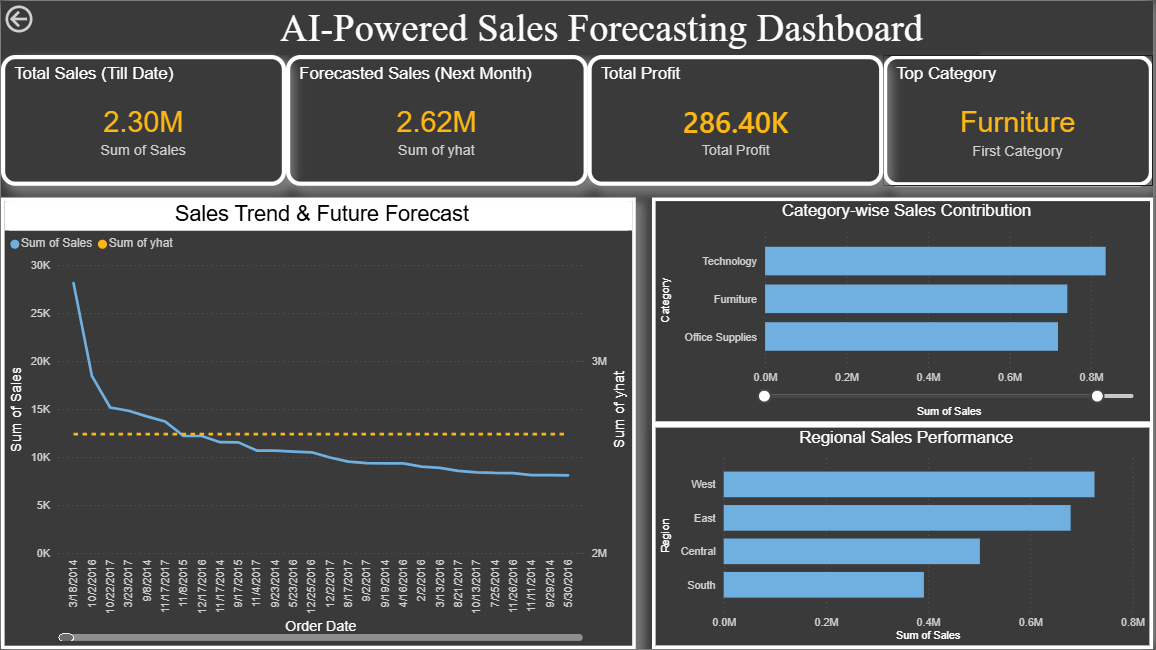

The dashboard page shown, as its layout file describes it:
{"tool":"powerbi","page":{"name":"Page 1","canvas":[1280,720],"ordinal":0},"visuals":[{"type":"lineChart","title":"Sales Trend & Future Forecast","fields":{"Category":["superstore.Order Date"],"Y":["Sum(superstore.Sales)"],"Y2":["Sum(sales_forecast.yhat)"]},"box":[0,218.3,705,501.7],"z":0},{"type":"actionButton","box":[0,0,100,40],"z":6},{"type":"card","title":"Forecasted Sales (Next Month)","fields":{"Values":["Sum(sales_forecast.yhat)"]},"box":[316.7,60,335,145],"z":7},{"type":"card","title":"Top Category","fields":{"Values":["Min(superstore.Category)"]},"box":[980.6,59.6,299.8,145.8],"z":8},{"type":"card","title":"Total Sales (Till Date)","fields":{"Values":["Sum(superstore.Sales)"]},"box":[0,60,316.7,145],"z":9},{"type":"cardVisual","title":"Total Profit","fields":{"Data":["superstore.Total Profit"]},"box":[651.7,60,328.3,145],"z":10},{"type":"clusteredBarChart","title":"Category-wise Sales Contribution","fields":{"Category":["superstore.Category"],"Y":["Sum(superstore.Sales)"]},"box":[722.5,217.5,557.5,252.5],"z":11},{"type":"barChart","title":" Regional Sales Performance","fields":{"Category":["superstore.Region"],"Y":["Sum(superstore.Sales)"]},"box":[723.3,470,556.7,250],"z":12},{"type":"textbox","box":[305,0,782.5,60],"z":13}]}

Visuals, with their boxes in screenshot pixels (x1, y1, x2, y2), scaled from the page's 1280x720 canvas onto the 1156x650 screenshot:
"Sales Trend & Future Forecast" lineChart: rect(0, 197, 637, 649)
actionButton: rect(0, 0, 90, 36)
"Forecasted Sales (Next Month)" card: rect(286, 54, 589, 185)
"Top Category" card: rect(886, 54, 1155, 185)
"Total Sales (Till Date)" card: rect(0, 54, 286, 185)
"Total Profit" cardVisual: rect(589, 54, 885, 185)
"Category-wise Sales Contribution" clusteredBarChart: rect(653, 196, 1155, 424)
" Regional Sales Performance" barChart: rect(653, 424, 1155, 649)
textbox: rect(275, 0, 982, 54)
